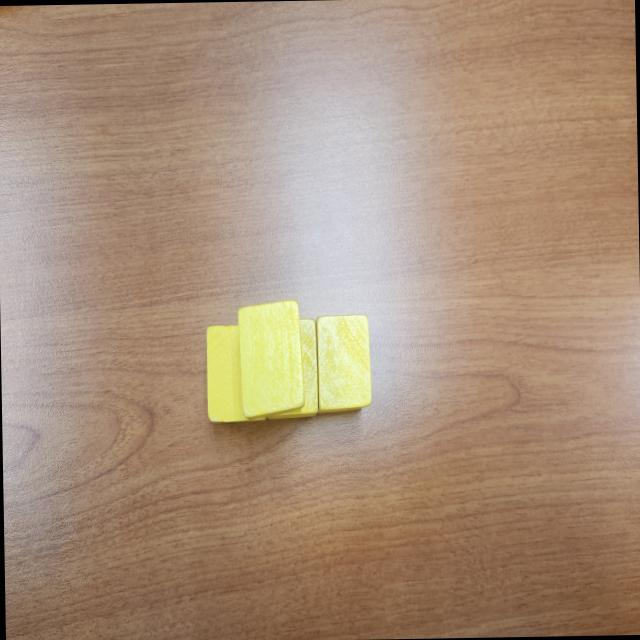yellow: (237, 300, 304, 420), (204, 324, 266, 424), (314, 313, 372, 414), (264, 318, 319, 424)
